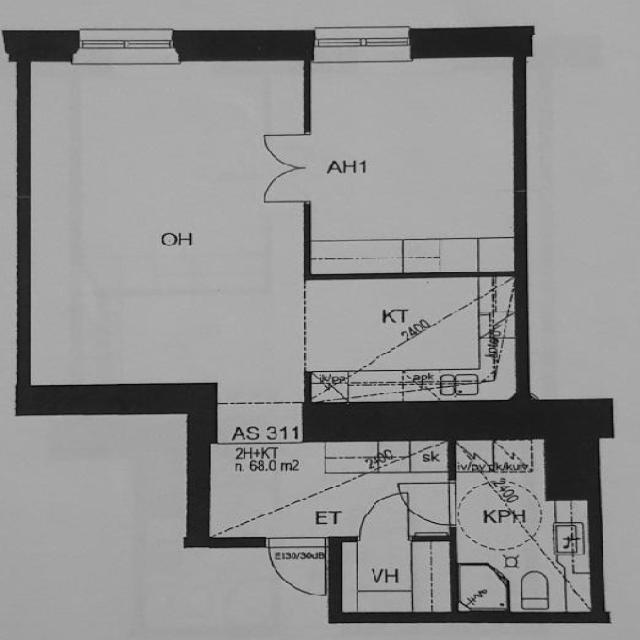door: (0, 400, 201, 634), (250, 121, 317, 209), (264, 536, 328, 598), (404, 477, 459, 531), (359, 490, 410, 534)
window: (307, 22, 420, 58), (70, 26, 183, 57)
zone: (23, 58, 294, 309), (311, 48, 517, 272), (302, 274, 509, 398), (452, 435, 578, 615), (336, 537, 452, 615)
